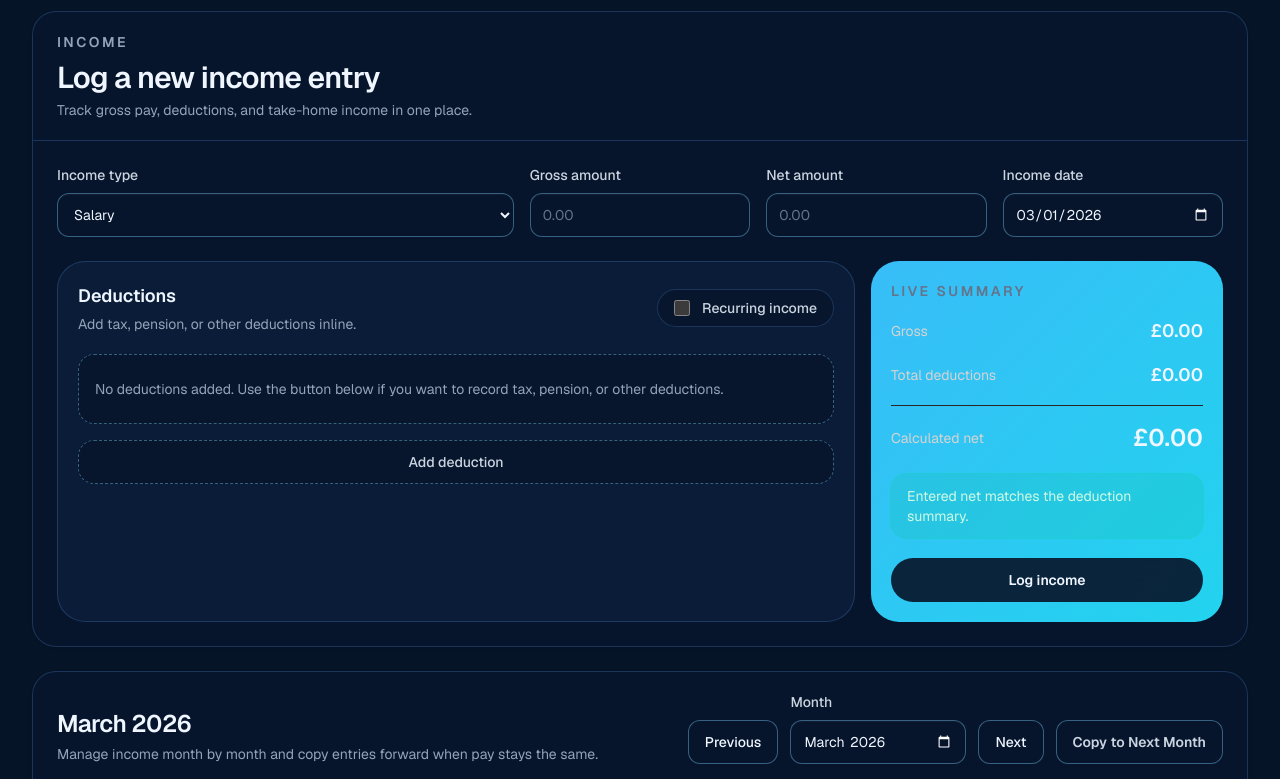
[Component] income page › should show an error when copying income fails
Click the button "Copy to Next Month" at (1139,742), box [1056, 720, 1223, 764]
(page scrolled)
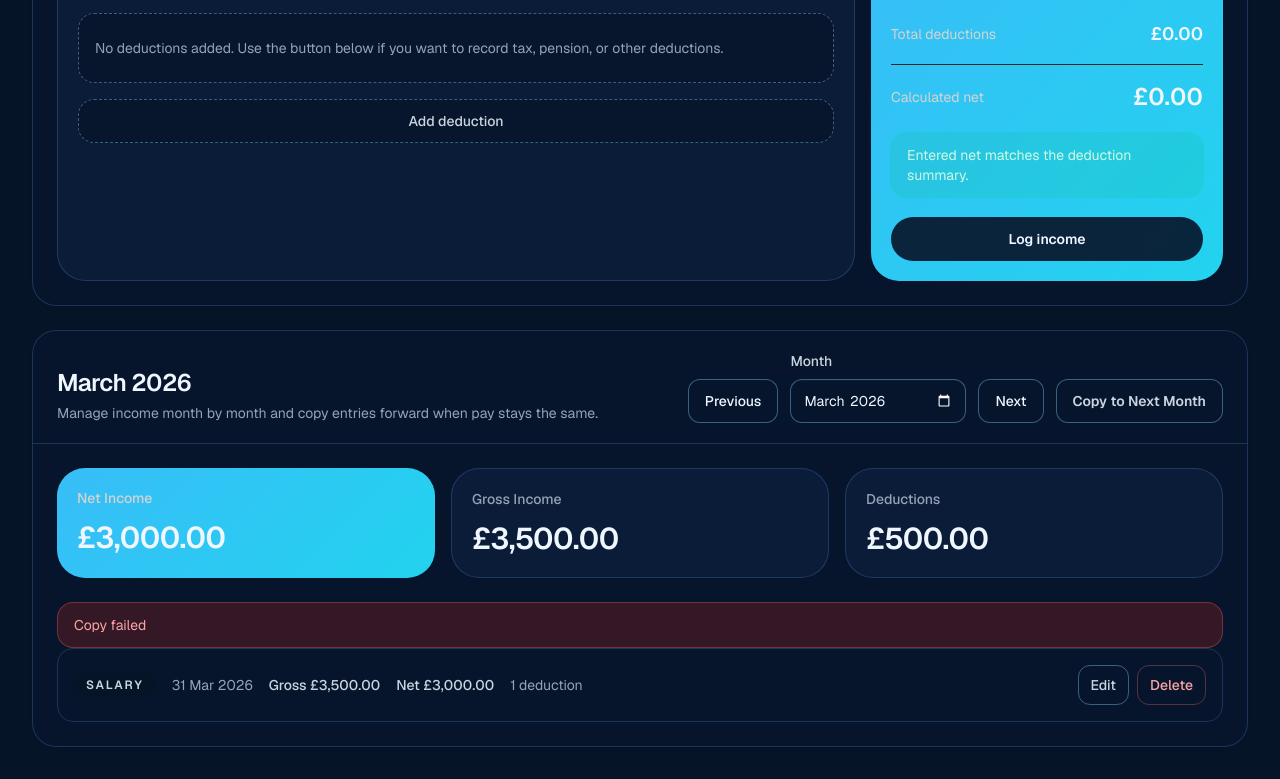
Result: the text "Copy failed" is shown at [57, 602, 1223, 648]
